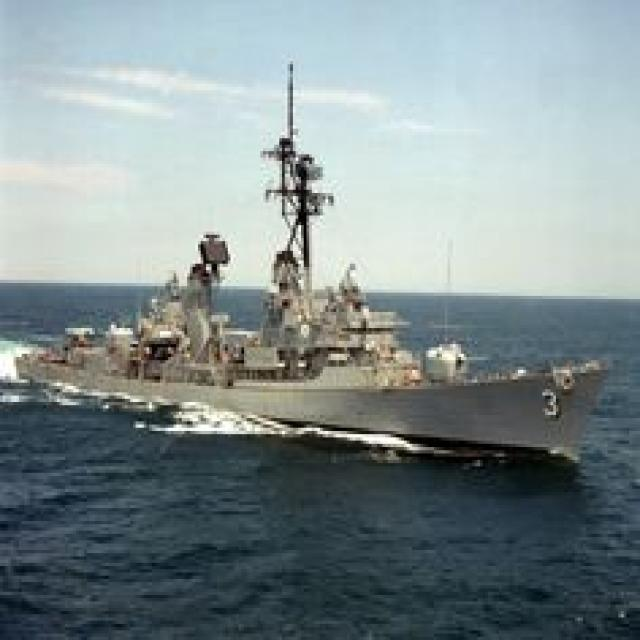navalvessels: (3, 115, 604, 467)
